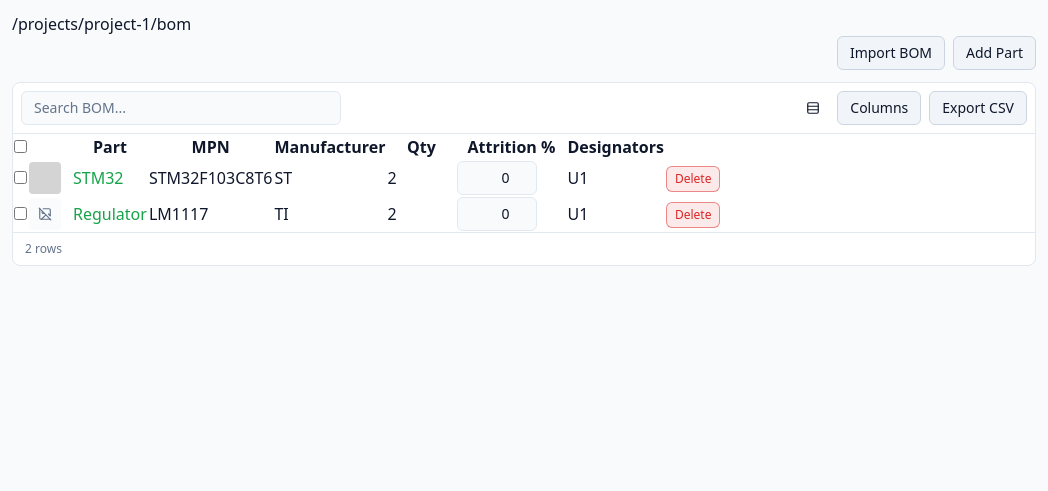
Test: ProjectBOM › multi-select + bulk-delete removes selected rows
Check: the text "STM32" is shown, box left=73, top=167, right=124, bottom=189
Click the checkbox named "Select row" in the row of "STM32F103C8T6": (20, 178) left=14, top=171, right=27, bottom=184
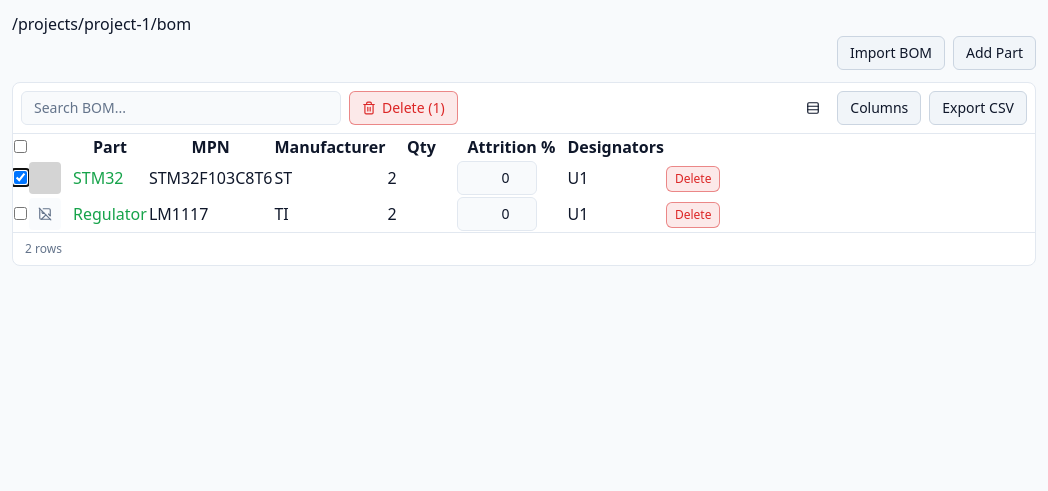
Click the checkbox named "Select row": (20, 214) left=14, top=207, right=27, bottom=220
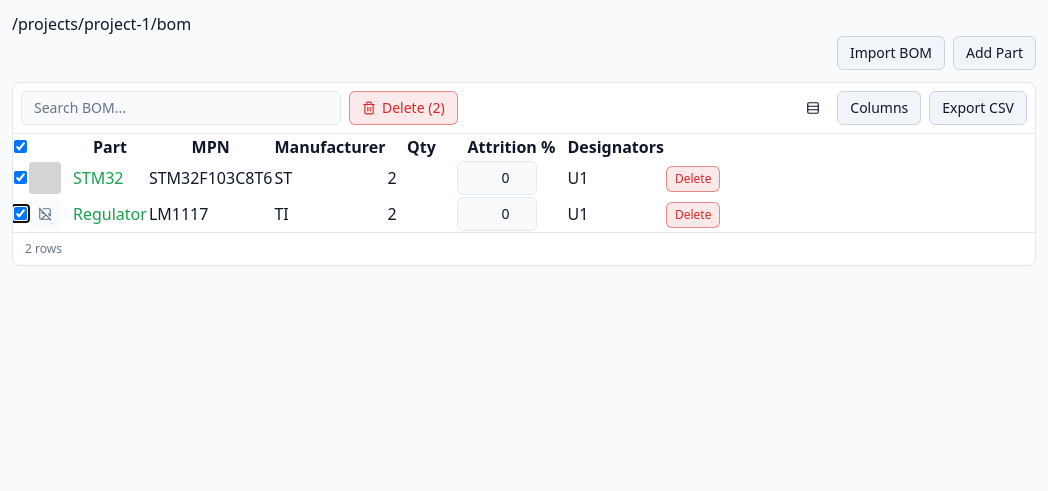
Click the button "Delete (2)": (403, 108) left=349, top=91, right=458, bottom=125
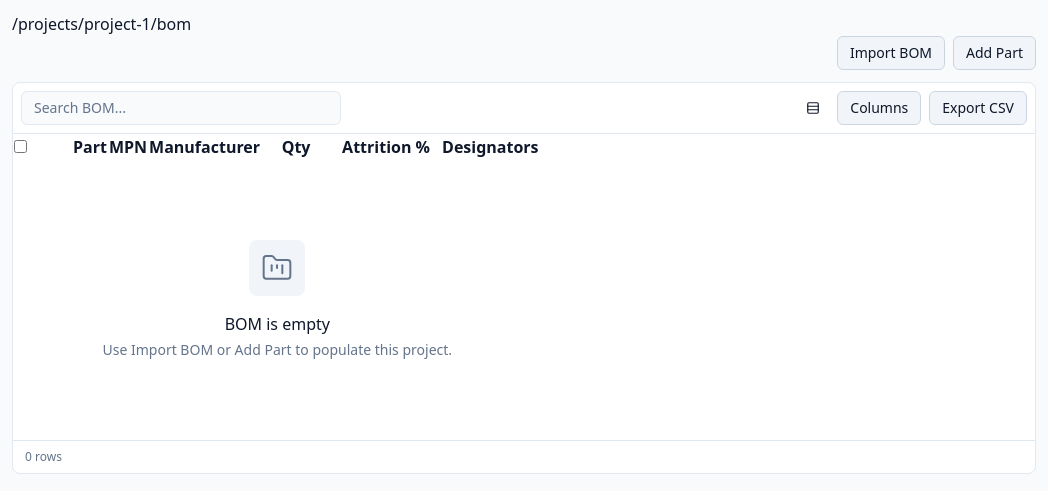
Check: the text "STM32" is gone
Check: the text "Regulator" is gone
